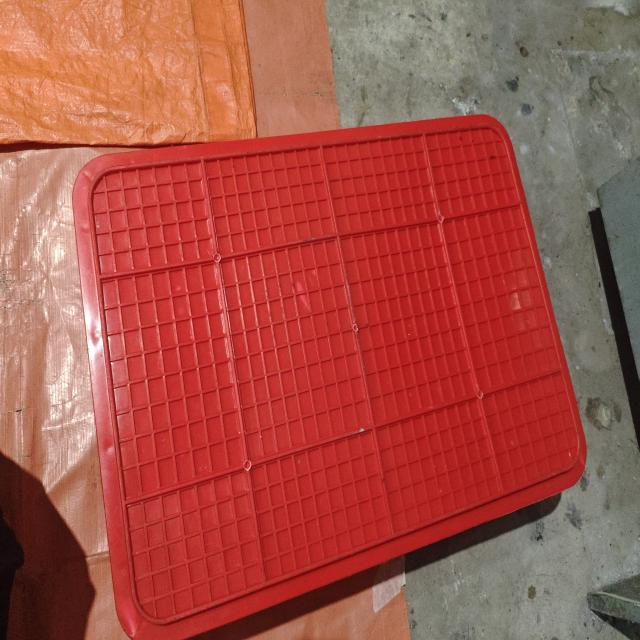red plastic box: (72, 114, 587, 640)
